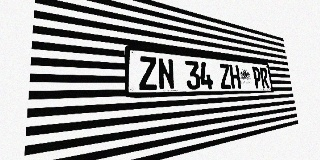3: (185, 60, 201, 90)
4: (199, 62, 213, 89)
H: (229, 64, 241, 89)
N: (157, 58, 175, 90)
P: (252, 67, 262, 88)
R: (259, 67, 269, 88)
Z: (138, 56, 158, 90), (218, 63, 232, 89)
